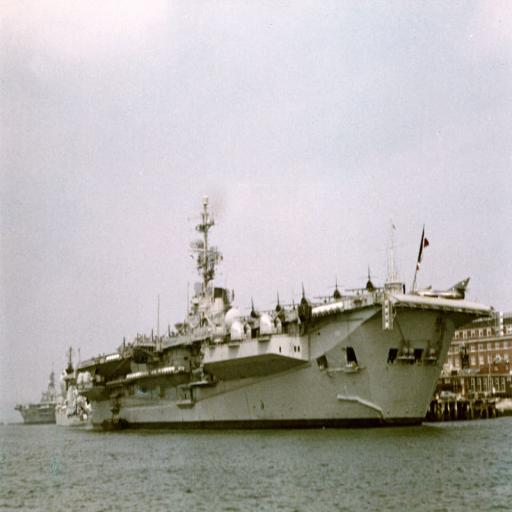Portanaves: (66, 199, 491, 431)
